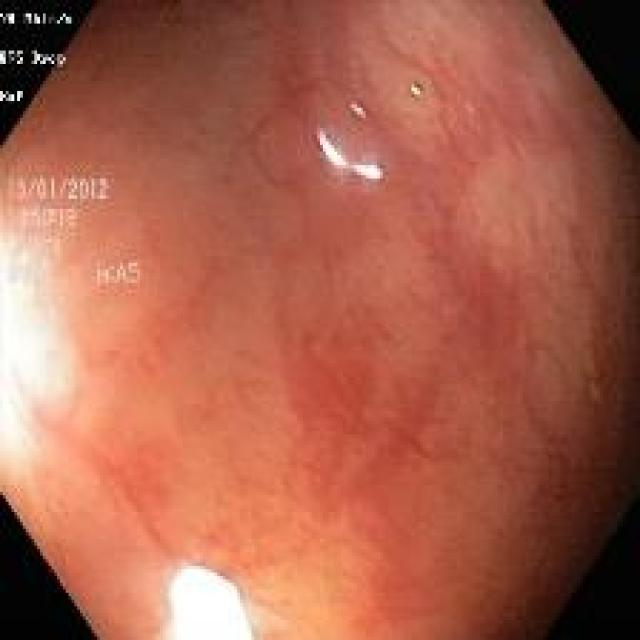ulcerative-colitis-grade-1: (2, 3, 638, 640)
